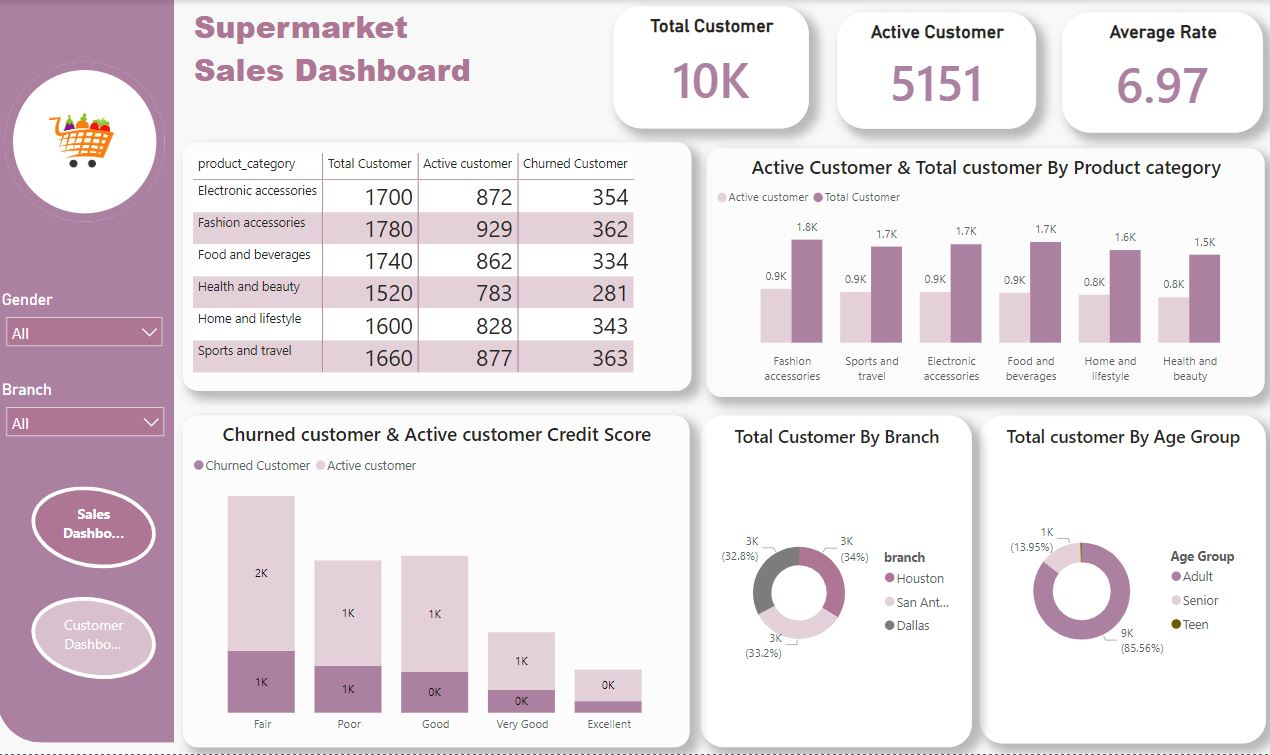

This screenshot's page, from the dashboard's own definition file:
{"tool":"powerbi","page":{"name":"Customer Dashboard","canvas":[1350,800],"ordinal":1},"visuals":[{"type":"donutChart","title":"Total customer By Age Group","fields":{"Y":["Dax.Total Customer"],"Category":["Customer_Table.Age Group"]},"box":[1042.7,440.1,304,348.2],"z":0},{"type":"clusteredColumnChart","title":"Active Customer & Total customer  By Product category","fields":{"Category":["supermarket_churnData.product_category"],"Y":["Dax.Active customer","Dax.Total Customer"]},"box":[752.9,157.3,592.1,263.3],"z":1000},{"type":"card","title":"Average Rate","fields":{"Values":["Dax.Average Rating"]},"box":[1130,12.8,213.6,128.2],"z":2000},{"type":"card","title":"Total Customer","fields":{"Values":["Dax.Total Customer"]},"box":[653.6,6.4,207.2,130.3],"z":3000},{"type":"card","title":"Active Customer","fields":{"Values":["Dax.Active customer"]},"box":[890.7,12.8,211.5,123.9],"z":4000},{"type":"donutChart","title":"Total Customer By Branch","fields":{"Y":["Dax.Total Customer"],"Category":["supermarket_churnData.branch"]},"box":[745.8,440.1,288.1,351.7],"z":5000},{"type":"pivotTable","fields":{"Rows":["supermarket_churnData.product_category"],"Values":["Dax.Total Customer","Dax.Active customer","Dax.Churned Customer"]},"box":[197.9,152,539,263.3],"z":6000},{"type":"columnChart","title":"Churned customer & Active customer Credit Score","fields":{"Category":["supermarket_churnData.credit_Category"],"Y":["Dax.Churned Customer","Dax.Active customer"]},"box":[197.9,440.1,537.3,351.7],"z":7000},{"type":"shape","box":[0,60.5,188,181.6],"z":10000,"group":"g1"},{"type":"shape","box":[0,0.1,188,788.2],"z":10250,"group":"g1"},{"type":"slicer","title":"Branch","fields":{"Values":["supermarket_churnData.branch"]},"box":[0,403.2,187.3,72.5],"z":10500,"group":"g1"},{"type":"group","id":"g1","title":"Group 1","box":[0,0.1,205,788.2],"z":11000},{"type":"shape","box":[8.7,64.9,170.2,170.2],"z":11000,"group":"g1"},{"type":"slicer","title":"Gender","fields":{"Values":["Customer_Table.gender"]},"box":[0,307.7,185.6,76],"z":11250,"group":"g1"},{"type":"image","box":[21.2,93.9,137.9,109.6],"z":11500,"group":"g1"},{"type":"pageNavigator","box":[0,505.7,205,224.5],"z":12000,"group":"g1"},{"type":"textbox","box":[203.2,0,364.1,157.3],"z":15000}]}

Visuals, with their boxes in screenshot pixels (x1, y1, x2, y2), scaled from the page's 1350x800 canvas onto the 1270x755 screenshot:
"Total customer By Age Group" donutChart: Rect(981, 415, 1267, 744)
"Active Customer & Total customer  By Product category" clusteredColumnChart: Rect(708, 148, 1265, 397)
"Average Rate" card: Rect(1063, 12, 1264, 133)
"Total Customer" card: Rect(615, 6, 810, 129)
"Active Customer" card: Rect(838, 12, 1037, 129)
"Total Customer By Branch" donutChart: Rect(702, 415, 973, 747)
pivotTable - supermarket_churnData.product_category x Dax.Total Customer: Rect(186, 143, 693, 392)
"Churned customer & Active customer Credit Score" columnChart: Rect(186, 415, 692, 747)
shape: Rect(0, 57, 177, 228)
shape: Rect(0, 0, 177, 744)
"Branch" slicer: Rect(0, 381, 176, 449)
"Group 1" group: Rect(0, 0, 193, 744)
shape: Rect(8, 61, 168, 222)
"Gender" slicer: Rect(0, 290, 175, 362)
image: Rect(20, 89, 150, 192)
pageNavigator: Rect(0, 477, 193, 689)
textbox: Rect(191, 0, 534, 148)
